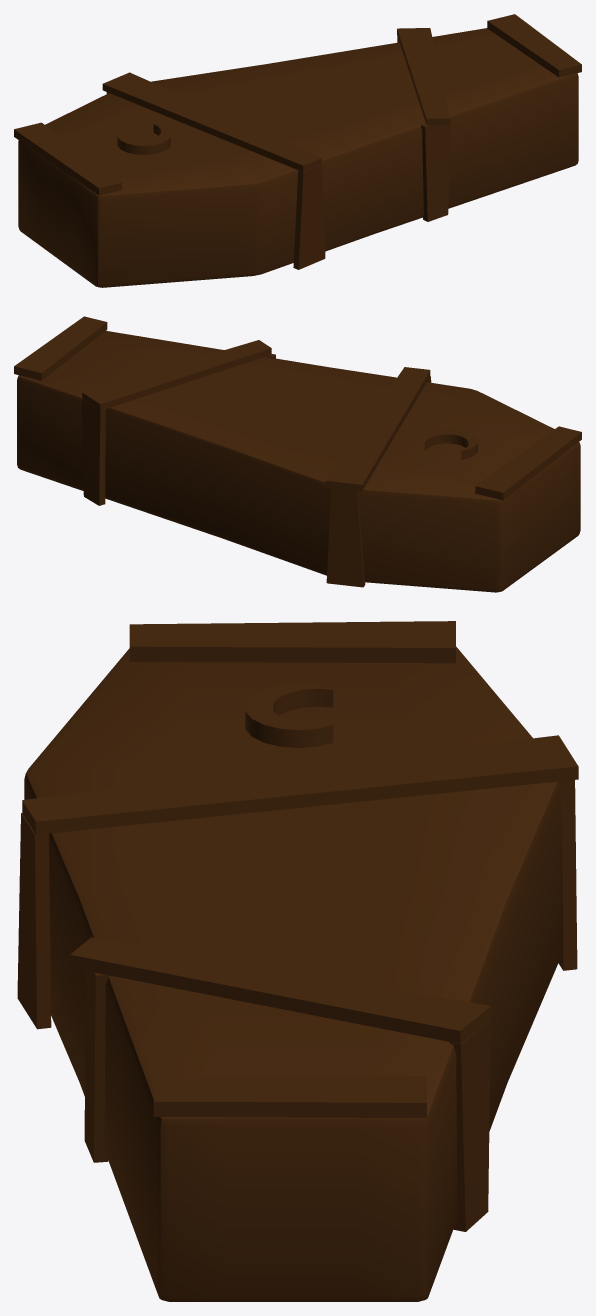
The model's file is Ataud_Abierto.fbx.
3 renders of one model, top to bottom at view 1: azimuth 30°, elevation 25°; view 2: azimuth 150°, elevation 25°; view 3: azimuth 270°, elevation 25°, orthographic. The views are drawn at different scales.
Visible parts, largest first — view 1: Object002, Box561; view 2: Object002, Box561; view 3: Object002, Box561.
Part boxes in pixels (x1,y1,x2,y2): Object002: (14, 14, 581, 200); Box561: (18, 37, 578, 287); Object002: (14, 316, 581, 504); Box561: (17, 355, 580, 592); Object002: (21, 621, 578, 1126); Box561: (17, 780, 577, 1301).
Bounding box in the file's own units: 274 × 55.31 × 135.
